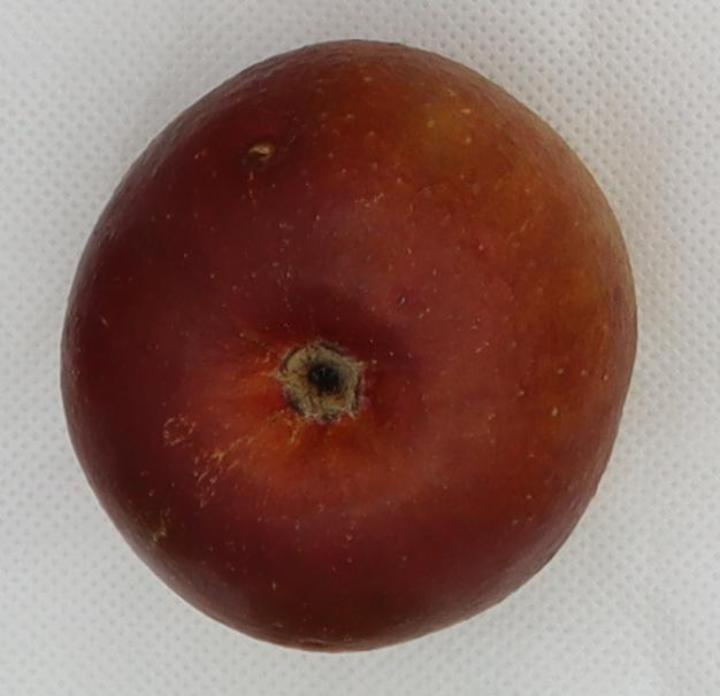apple: (62, 41, 636, 651)
surface_damage: (246, 140, 275, 166)
